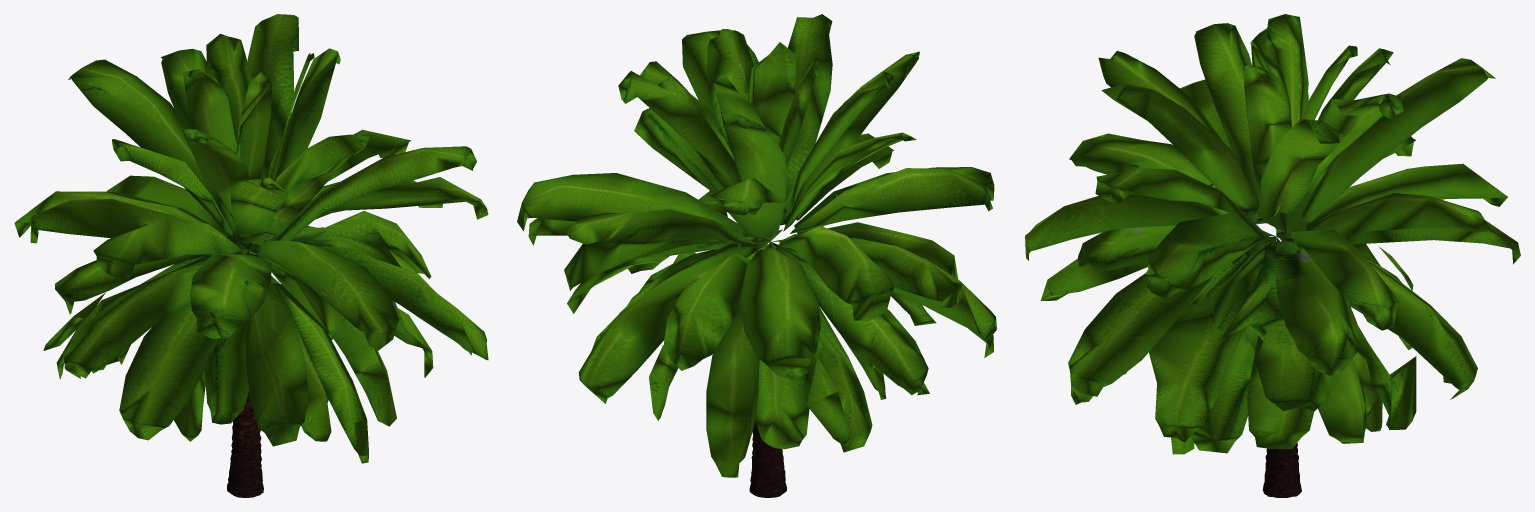
File: 019f9d3d-92bd-7eef-a1f4-a5013b04ee53.glb
3 renders of one model, left to right at view 1: azimuth 30°, elevation 25°; view 2: azimuth 150°, elevation 25°; view 3: azimuth 270°, elevation 25°, orthographic. The views are drawn at different scales.
Visible parts, largest first — view 1: tripo_node_f0e26461-1b0b-41f8-90e0-f3c866638b8a; view 2: tripo_node_f0e26461-1b0b-41f8-90e0-f3c866638b8a; view 3: tripo_node_f0e26461-1b0b-41f8-90e0-f3c866638b8a.
Part boxes in pixels (x1=…): tripo_node_f0e26461-1b0b-41f8-90e0-f3c866638b8a: x1=14, y1=14, x2=488, y2=497; tripo_node_f0e26461-1b0b-41f8-90e0-f3c866638b8a: x1=517, y1=14, x2=996, y2=497; tripo_node_f0e26461-1b0b-41f8-90e0-f3c866638b8a: x1=1025, y1=14, x2=1520, y2=497.
Size of the model in its own units: 1 by 1 by 0.9922.
1 material, 1 textured.
